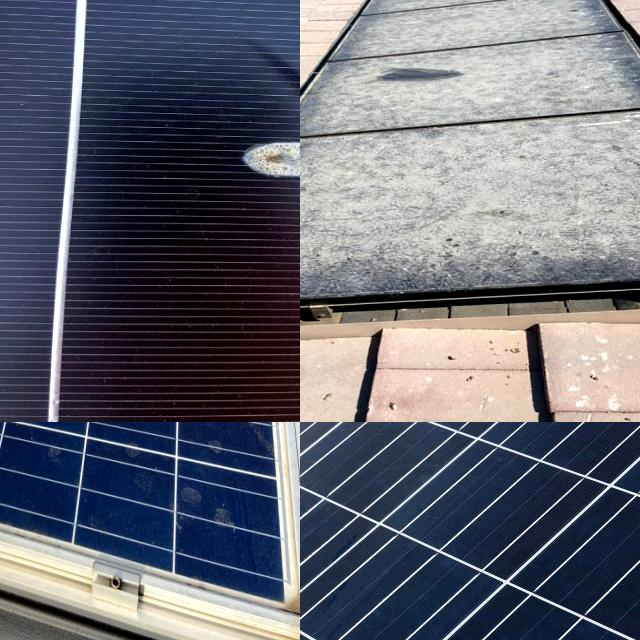bird: (89, 422, 190, 488), (0, 422, 51, 503), (198, 422, 268, 452)
crack: (300, 422, 640, 640)
dust: (300, 103, 640, 285), (362, 34, 618, 102), (388, 0, 575, 38), (300, 0, 530, 29)
shadow: (213, 96, 300, 205)
